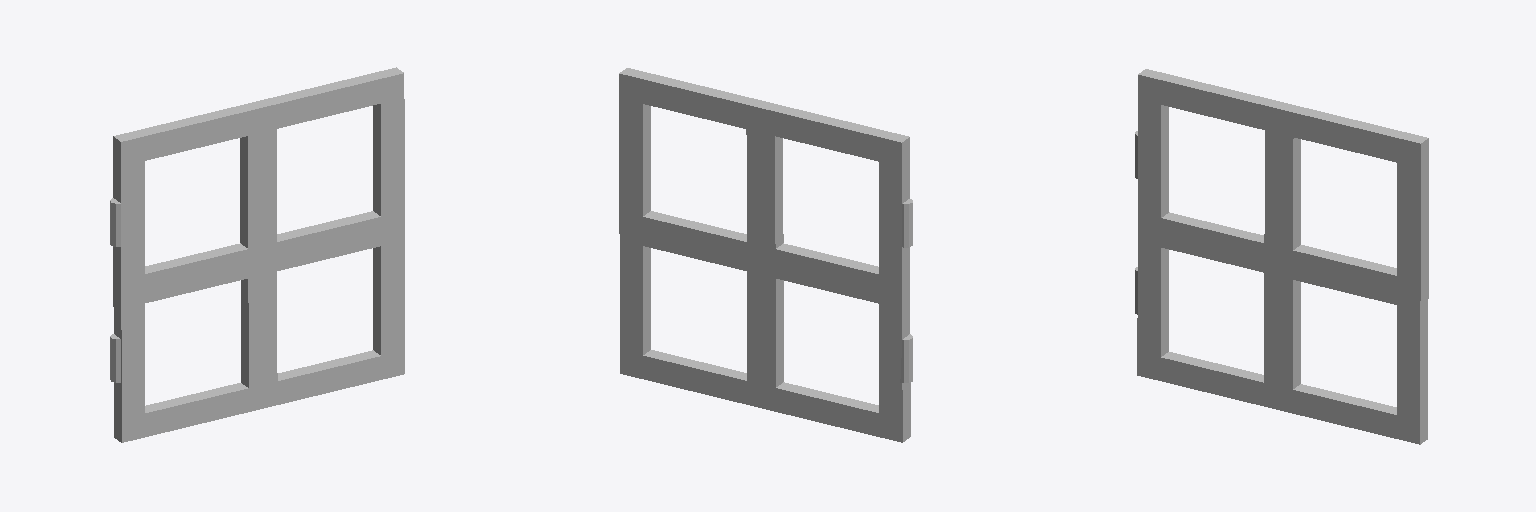
The model's file is fenetre-gauche.obj.
The picture shows the model from 3 angles: view 1: azimuth 30°, elevation 25°; view 2: azimuth 150°, elevation 25°; view 3: azimuth 330°, elevation 25°; orthographic projection.
Parts seen in each view (by area): view 1: interaction_fenetredroite; view 2: interaction_fenetredroite; view 3: interaction_fenetredroite.
Boxes of the visible parts, x1,y1,x2,y2 form: interaction_fenetredroite: [110, 67, 404, 442]; interaction_fenetredroite: [619, 68, 912, 442]; interaction_fenetredroite: [1135, 69, 1428, 444].
Bounding box in the file's own units: 60.3 × 59.9 × 3.18.